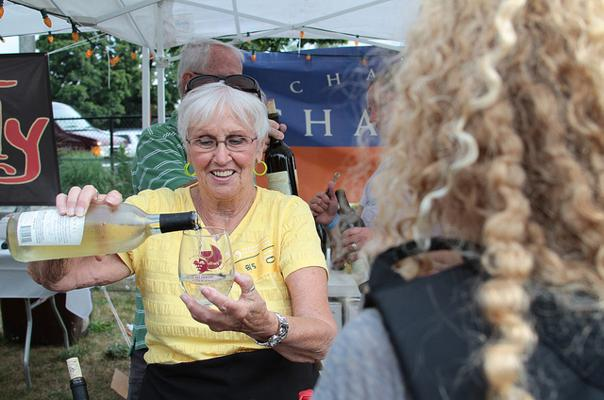person: (27, 80, 340, 400)
